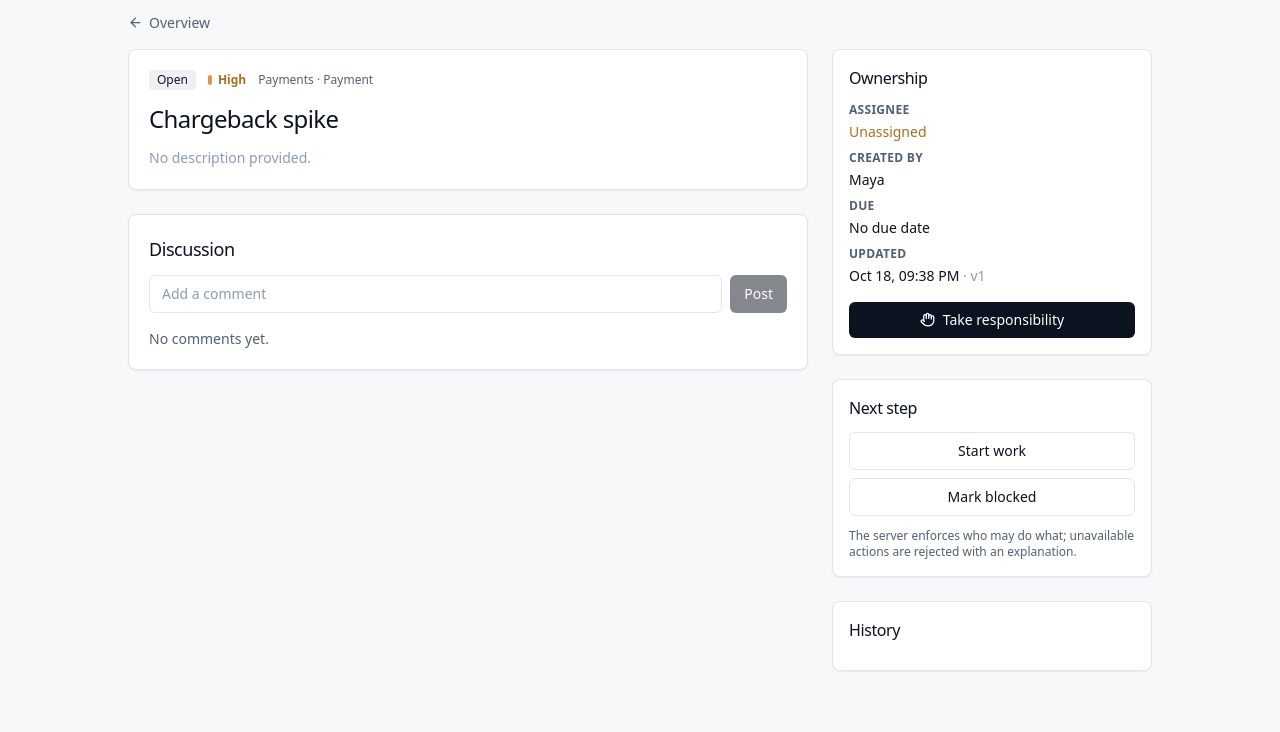
Test: losing a claim race shows the conflict and the latest assignee instead of a false success
The width and height of the screenshot is (1280, 732).
Step 1. Click the button "Take responsibility" → (992, 320), box [849,302,1135,338]
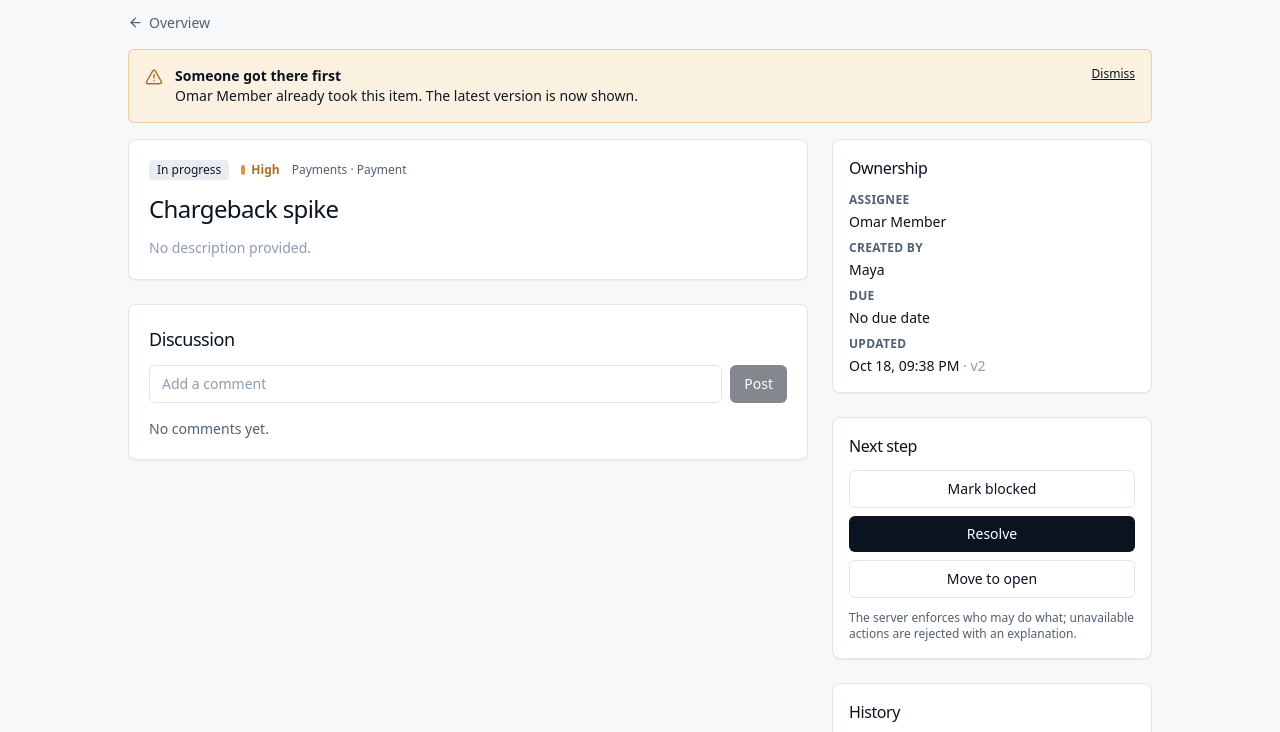
Result: the text "Someone got there first" is shown at [175,66,341,84]
Result: the text "Omar Member" is shown at [849,212,946,230]
Result: the button "Take responsibility" is gone
